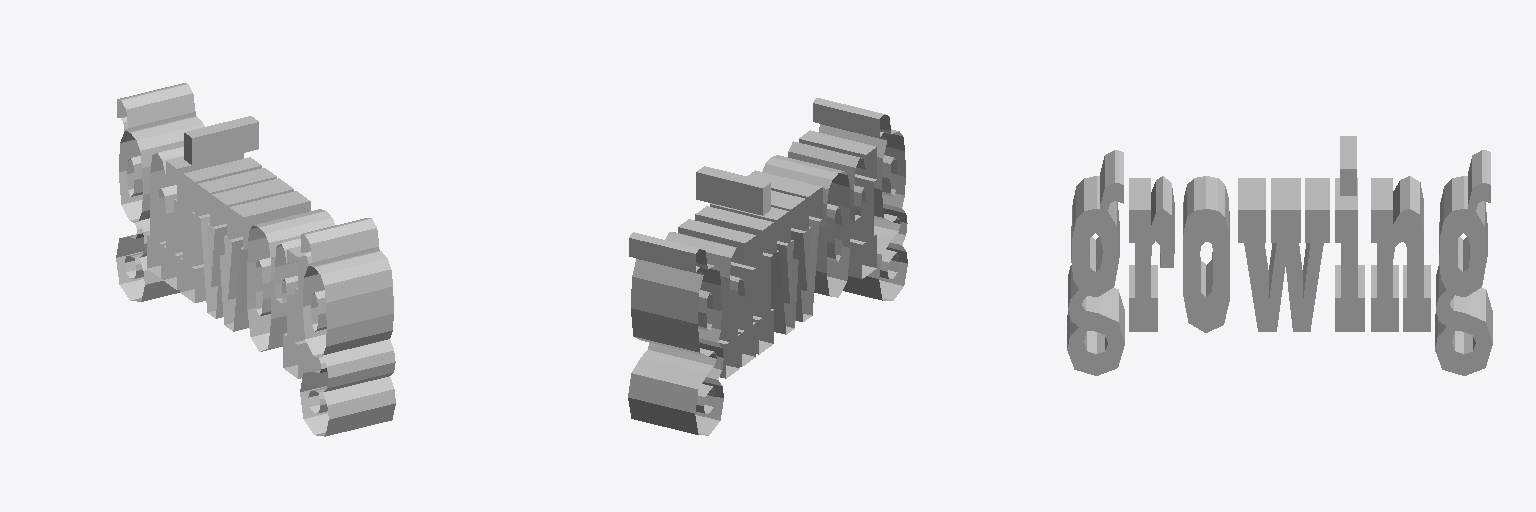
File: typemesh_growing.obj
3 views of the same model, side by side, from view 1: azimuth 30°, elevation 25°; view 2: azimuth 150°, elevation 25°; view 3: azimuth 270°, elevation 25° (orthographic).
Parts seen in each view (by area): view 1: typeMesh_growing group2; view 2: typeMesh_growing group2; view 3: typeMesh_growing group2.
Part boxes in pixels (bbox=[...]): typeMesh_growing group2: bbox=[116, 83, 395, 436]; typeMesh_growing group2: bbox=[628, 98, 907, 435]; typeMesh_growing group2: bbox=[1067, 136, 1492, 375].
Bounding box in the file's own units: 0.0946 × 0.2795 × 0.5192.